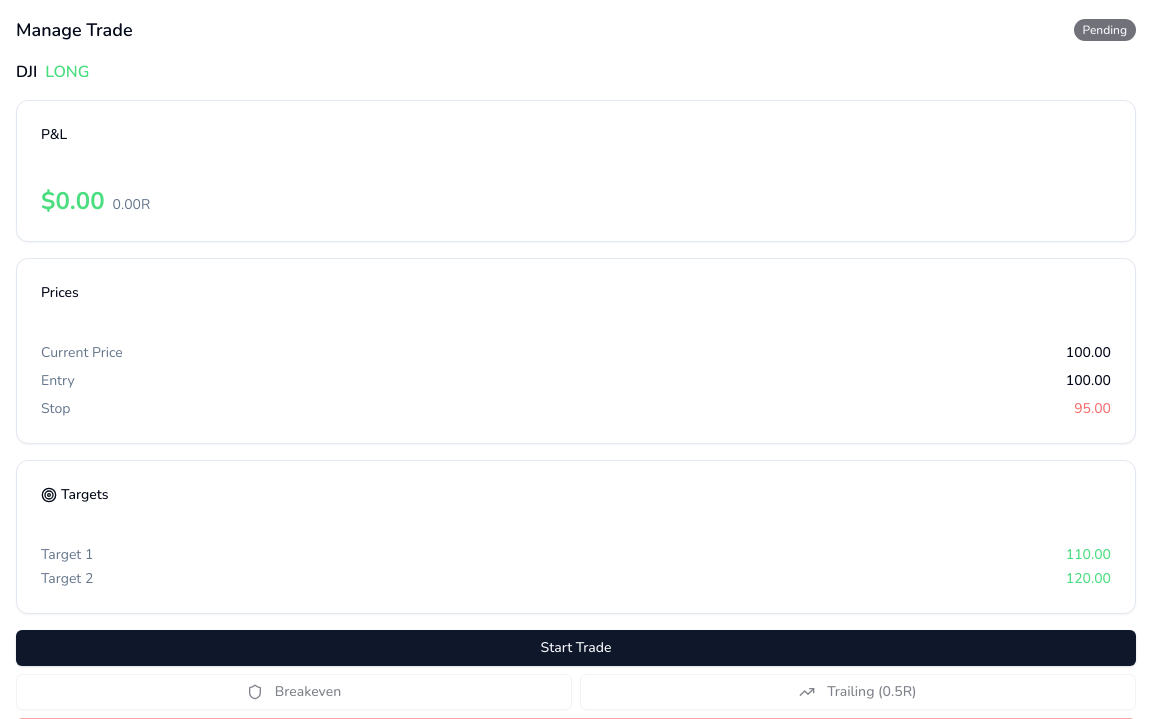
it: ManagePanel › trade status › should show active status after starting
The image size is (1152, 719).
Click the button "Start Trade" at (576, 648), box 16,630 -> 1136,666
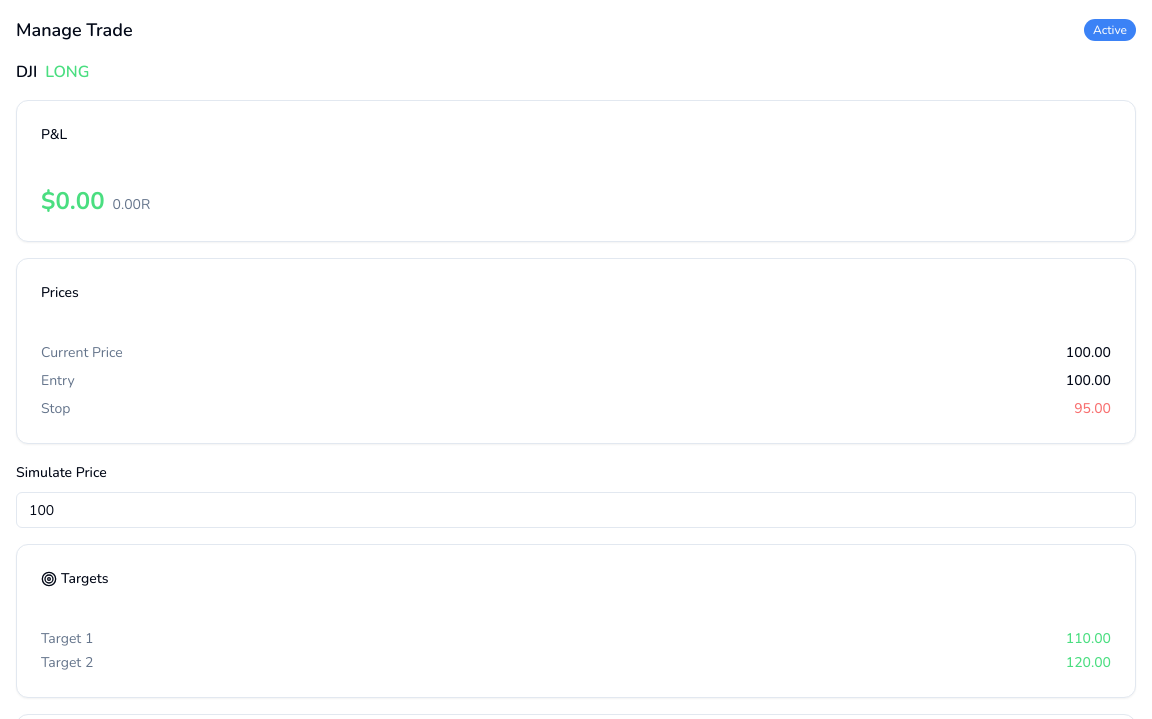
Result: the text "Active" is shown at 1084,19 -> 1136,41
